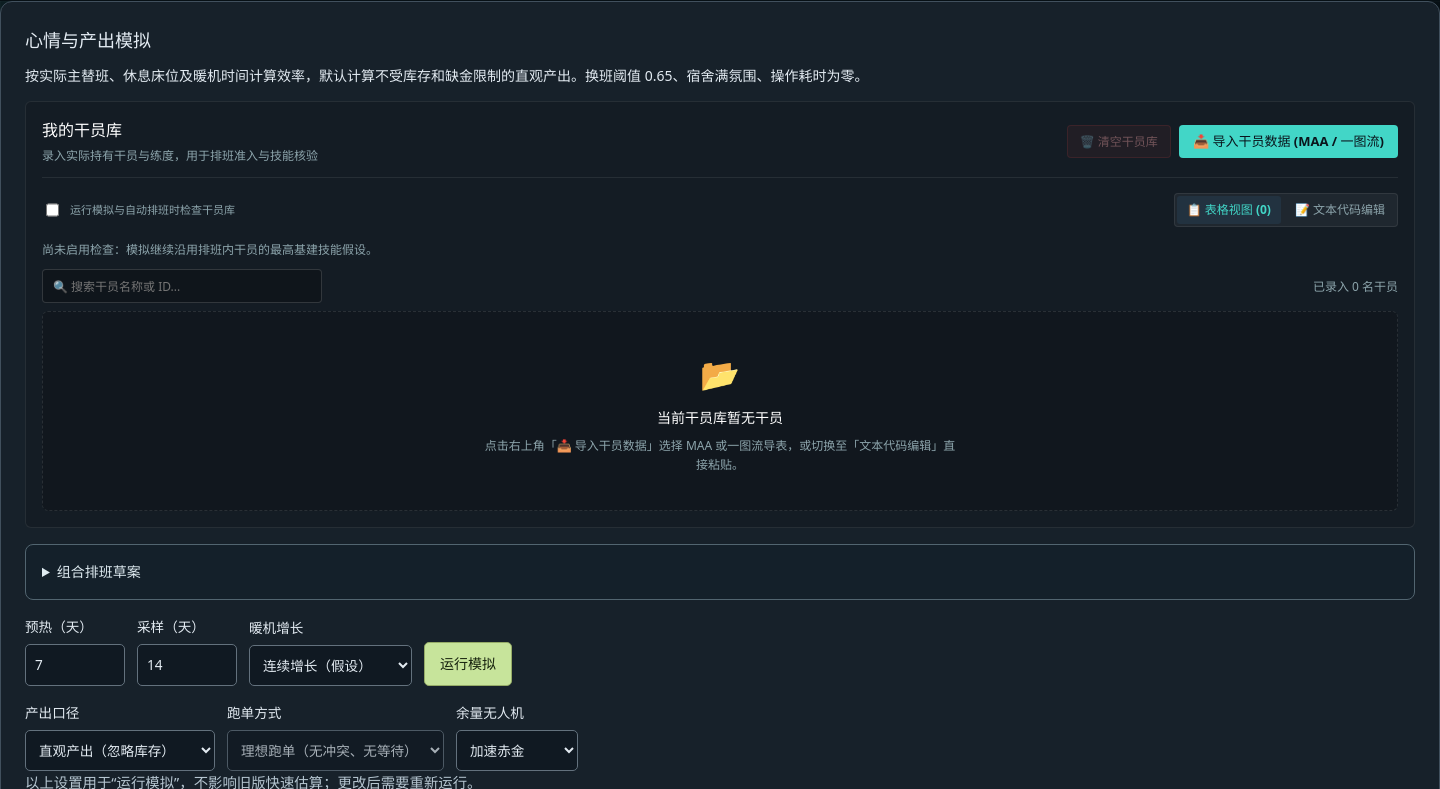
Test: shows sample resource movements and distinguishes incomplete production from a completed window
The image size is (1440, 789).
What coordinates should you click on to do the following:
click the button with test id "simulate-schedule"
I would click on:
 (468, 664)
Its box is [424,642,512,686].
(page scrolled)
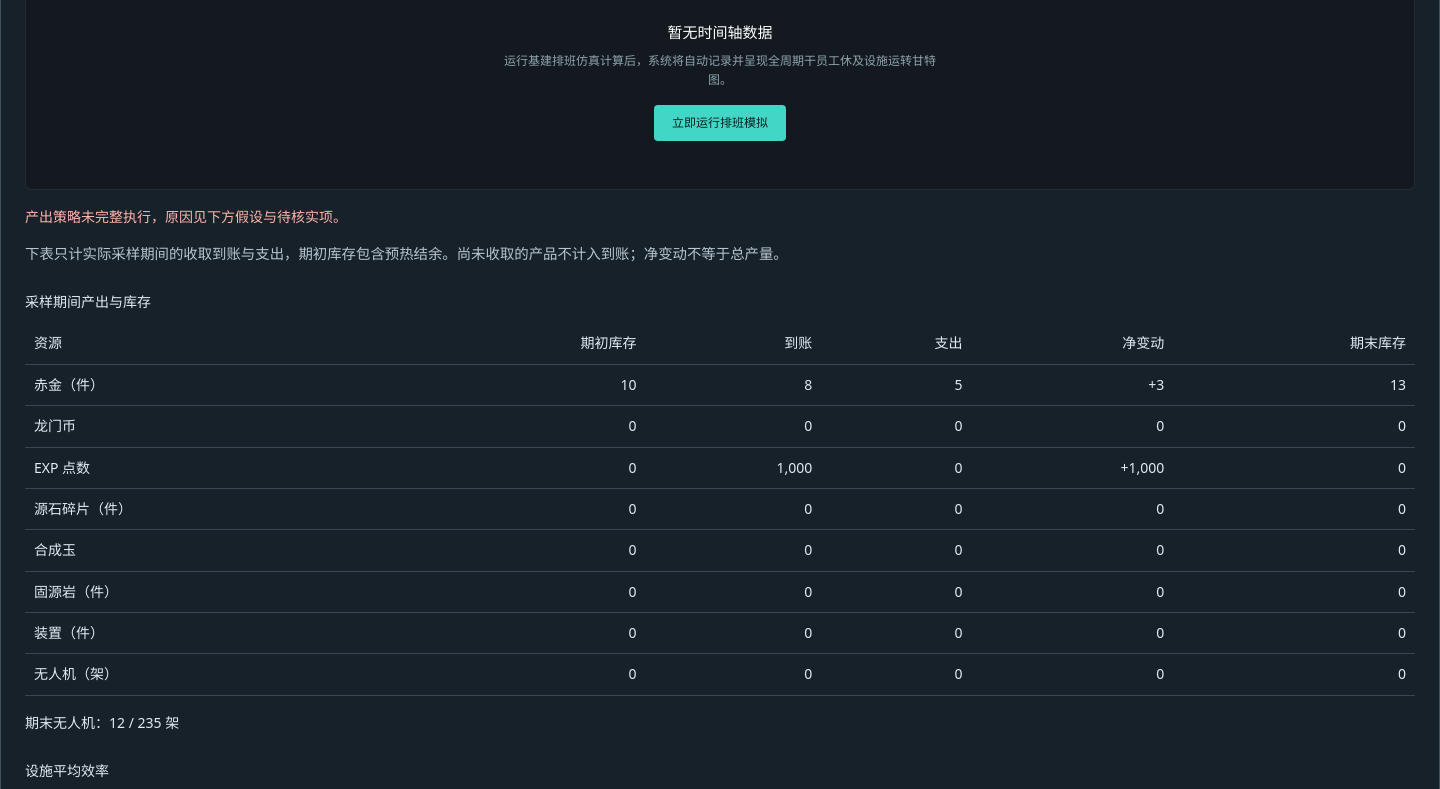
Now the text "产出策略未完整执行" is shown, box [25,206,151,226]
Now the text "EXP 点数" is shown, box [25,447,404,488]
Now the row with test id "production-gold" shows "+3", box [1148,375,1164,394]
